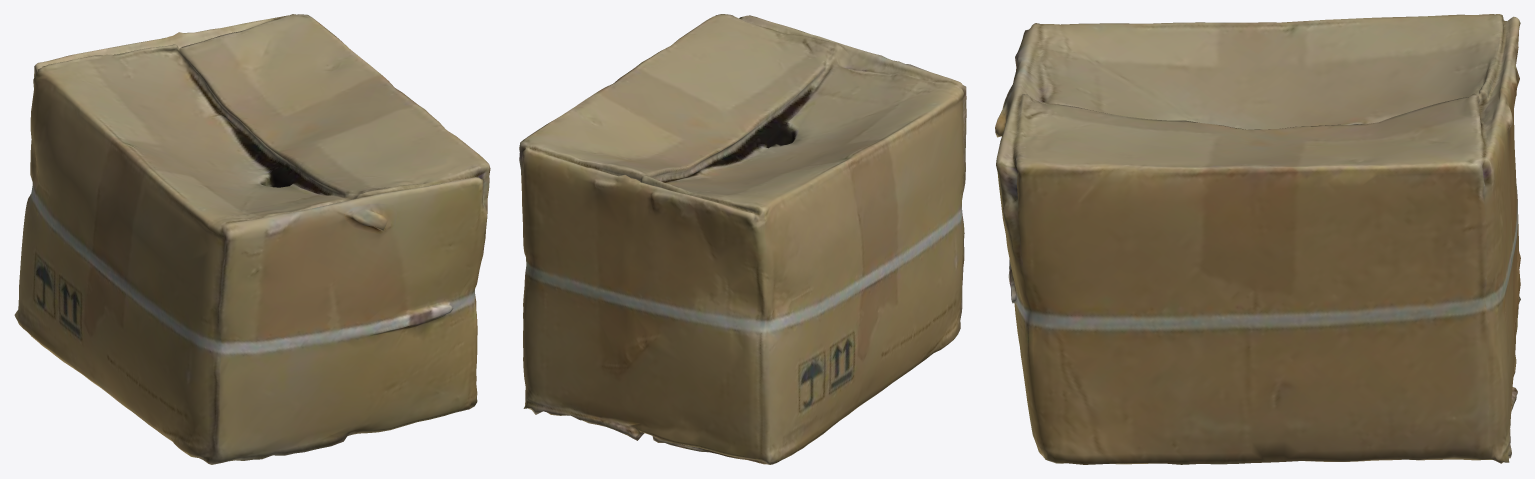
The model's file is cardboard_box_01_512.glb.
The picture shows the model from 3 angles, left to right: view 1: azimuth 30°, elevation 25°; view 2: azimuth 150°, elevation 25°; view 3: azimuth 270°, elevation 25°; orthographic projection. The views are drawn at different scales.
Parts seen in each view (by area): view 1: cardboard_box_01; view 2: cardboard_box_01; view 3: cardboard_box_01.
Part boxes in pixels (x1,y1,x2,y2): cardboard_box_01: (14, 14, 490, 464); cardboard_box_01: (519, 14, 966, 464); cardboard_box_01: (995, 14, 1520, 464).
Bounding box in the file's own units: 0.387 × 0.3418 × 0.5159.
1 material, 1 textured.
